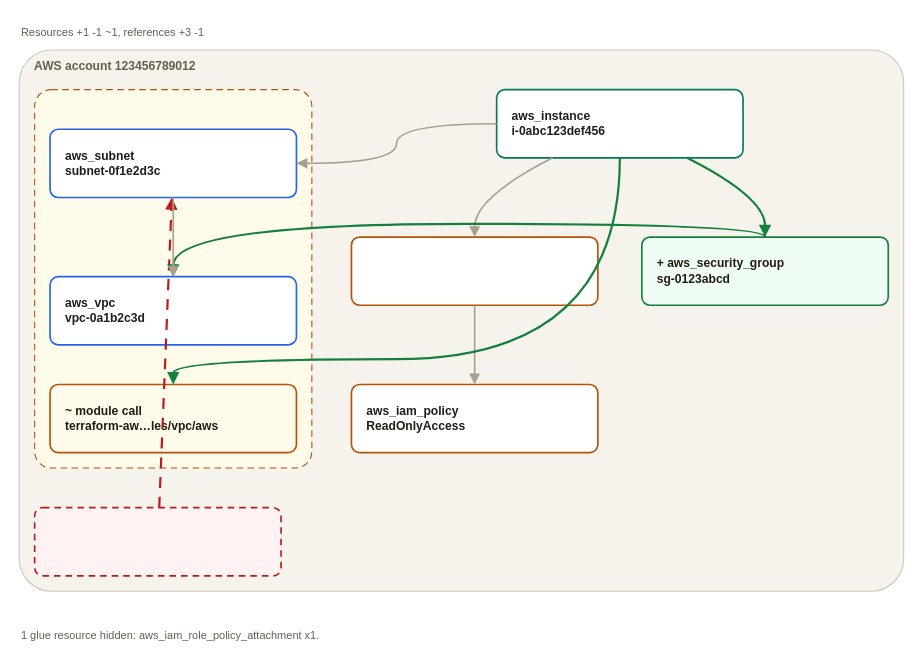
The diagram is 923 pixels wide and 661 high, and some of its shapes have lost their labels. The box of each missing label's shape, as (x1, y1, x2, y2) in pixels:
- aws_instance i-0old999: (33, 506, 281, 576)
aws_iam_role web-role: (350, 236, 598, 306)
module terraform-aws-modules/vpc/aws 5.13.0 [changed]: (34, 89, 312, 468)
